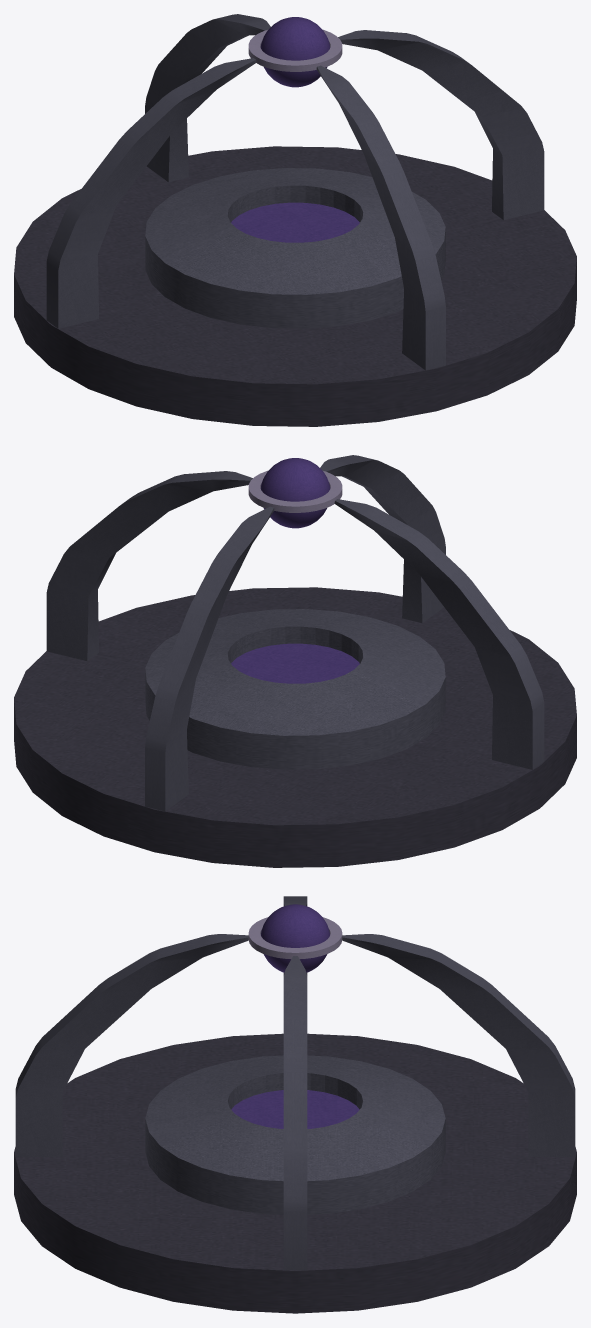
File: Wall_Laser.FBX
3 views of the same model, one above another, from view 1: azimuth 30°, elevation 25°; view 2: azimuth 150°, elevation 25°; view 3: azimuth 270°, elevation 25° (orthographic).
Visible parts, largest first — view 1: Base, Cylinder002, Pincer005, Pincer007, Pincer001, Pincer006, Emitter, Emitter_Holderr; view 2: Base, Cylinder002, Pincer005, Pincer007, Pincer006, Pincer001, Emitter, Emitter_Holderr; view 3: Base, Cylinder002, Pincer001, Pincer006, Pincer007, Emitter, Emitter_Holderr.
Part boxes in pixels (x1=…): Base: x1=14, y1=146, x2=576, y2=426; Cylinder002: x1=145, y1=168, x2=445, y2=328; Pincer005: x1=46, y1=58, x2=256, y2=328; Pincer007: x1=338, y1=30, x2=544, y2=220; Pincer001: x1=316, y1=65, x2=445, y2=370; Pincer006: x1=145, y1=14, x2=270, y2=182; Emitter: x1=260, y1=17, x2=330, y2=87; Emitter_Holderr: x1=248, y1=29, x2=342, y2=71; Base: x1=14, y1=587, x2=576, y2=867; Cylinder002: x1=145, y1=609, x2=445, y2=769; Pincer005: x1=334, y1=499, x2=544, y2=769; Pincer007: x1=46, y1=471, x2=252, y2=661; Pincer006: x1=145, y1=506, x2=274, y2=811; Pincer001: x1=320, y1=455, x2=445, y2=623; Emitter: x1=260, y1=458, x2=330, y2=528; Emitter_Holderr: x1=248, y1=470, x2=342, y2=512; Base: x1=14, y1=1033, x2=576, y2=1313; Cylinder002: x1=145, y1=1055, x2=445, y2=1214; Pincer001: x1=15, y1=934, x2=248, y2=1156; Pincer006: x1=342, y1=934, x2=575, y2=1156; Pincer007: x1=283, y1=956, x2=307, y2=1270; Emitter: x1=261, y1=904, x2=329, y2=972; Emitter_Holderr: x1=248, y1=917, x2=342, y2=958.
Size of the model in its own units: 68.56 by 38.56 by 68.56.
Materials: 4 (4 with a texture image).
